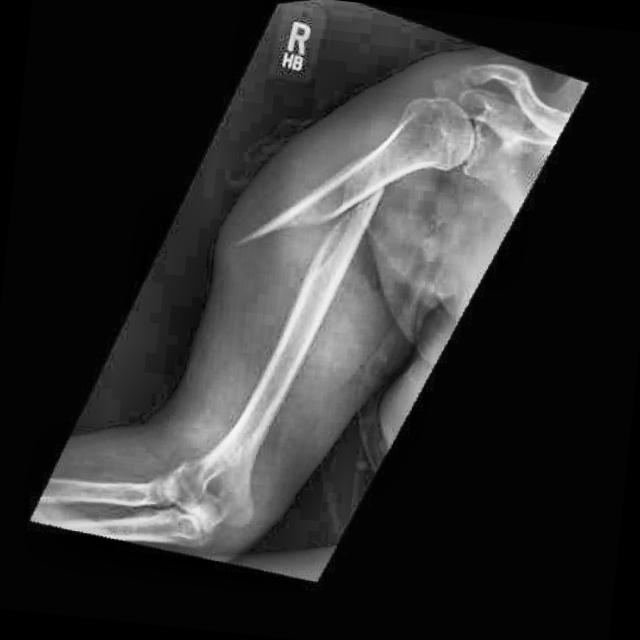humerus: (215, 143, 414, 345)
